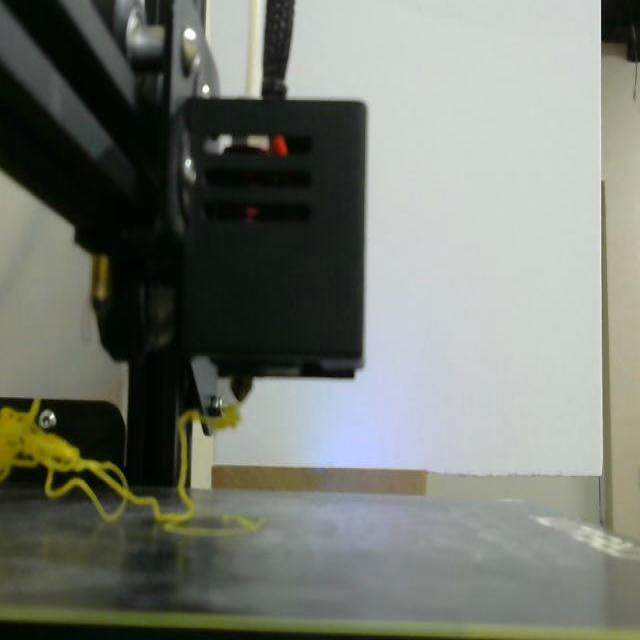spaghetti: (0, 400, 239, 532)
